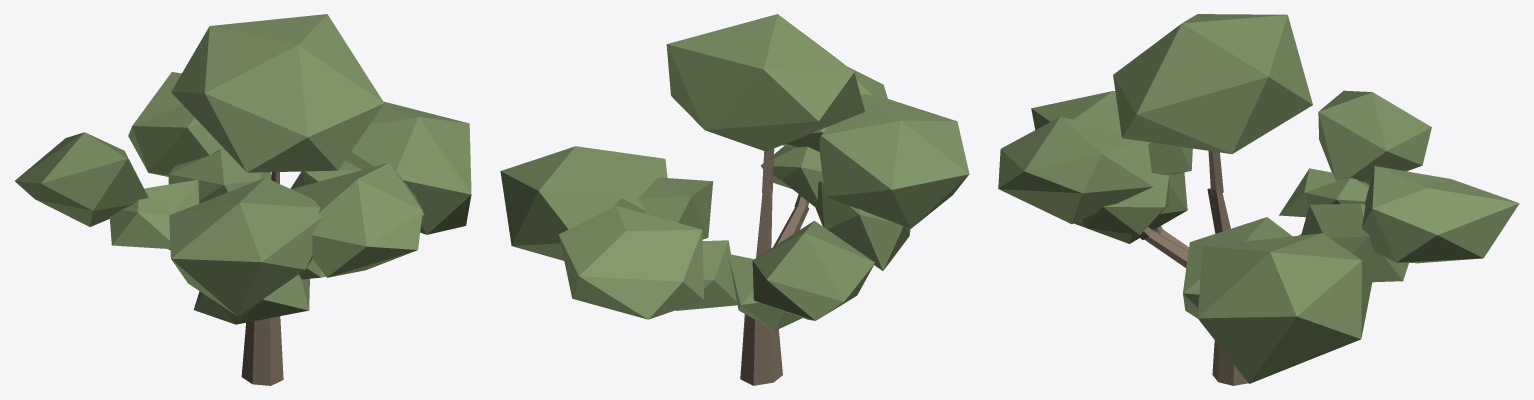
File: broadleaf_2.glb
3 views of the same model, side by side, from view 1: azimuth 30°, elevation 25°; view 2: azimuth 150°, elevation 25°; view 3: azimuth 270°, elevation 25° (orthographic). The views are drawn at different scales.
Parts seen in each view (by area): view 1: broadleaf_2.001; view 2: broadleaf_2.001; view 3: broadleaf_2.001.
Boxes of the visible parts, bbox=[...] form: broadleaf_2.001: bbox=[15, 14, 471, 385]; broadleaf_2.001: bbox=[500, 14, 969, 385]; broadleaf_2.001: bbox=[998, 14, 1519, 385].
Size of the model in its own units: 14.83 by 12.22 by 16.09.
